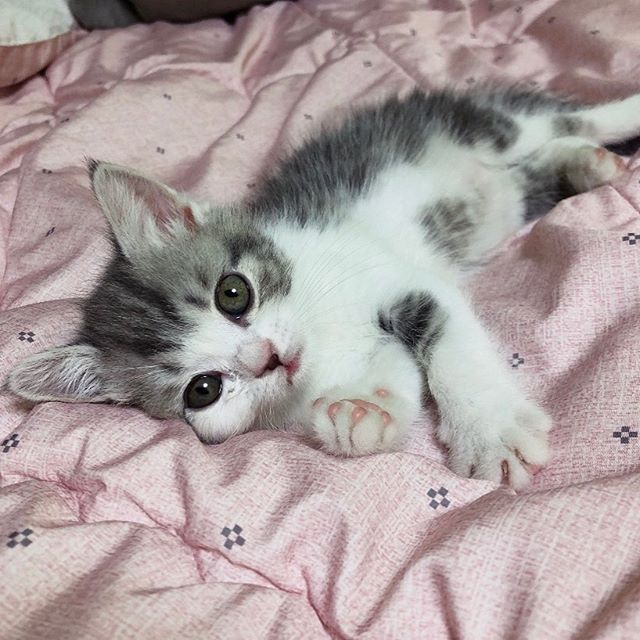cat: (7, 162, 315, 447)
